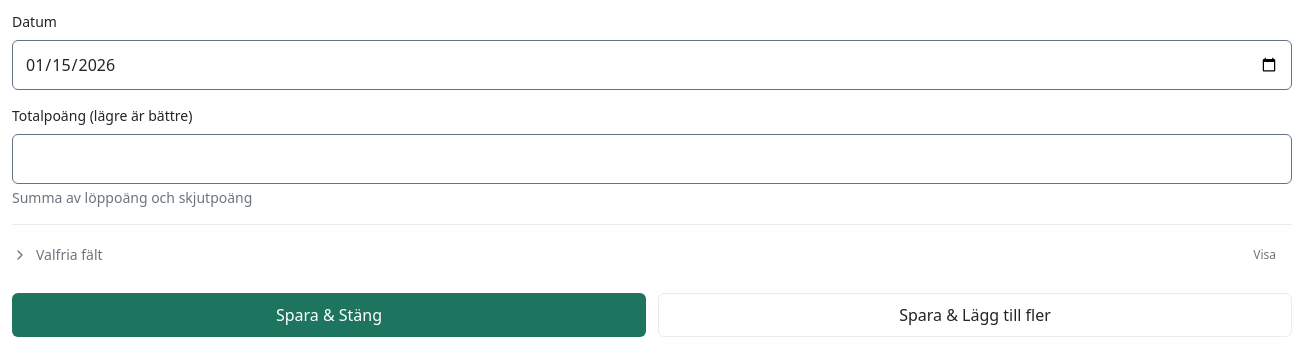
Test: RunningShootingCourseForm › validation › shows error when points is empty
Click the button "Spara & Stäng" at (329, 315), box [12,293,646,337]
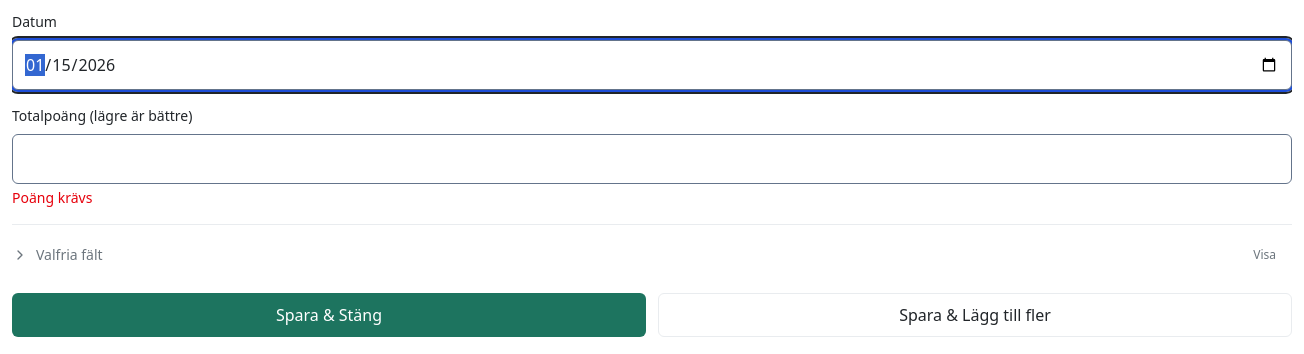
Expected: the text "Poäng krävs" is shown, [12,188,92,207]
